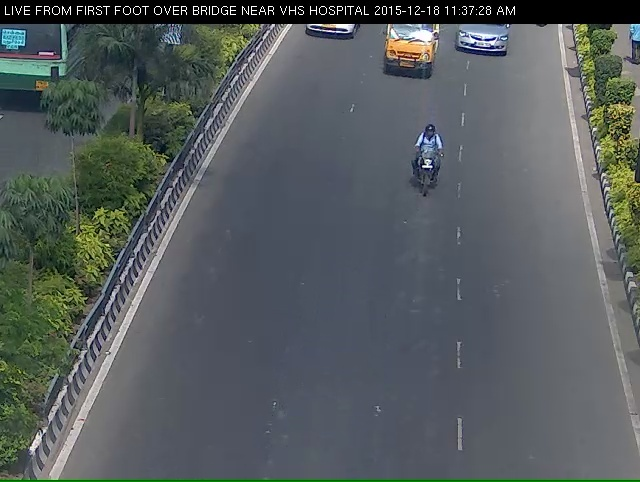Auto: (381, 25, 437, 88)
Car: (454, 24, 520, 66), (299, 18, 358, 50)
Person: (403, 132, 455, 228)
